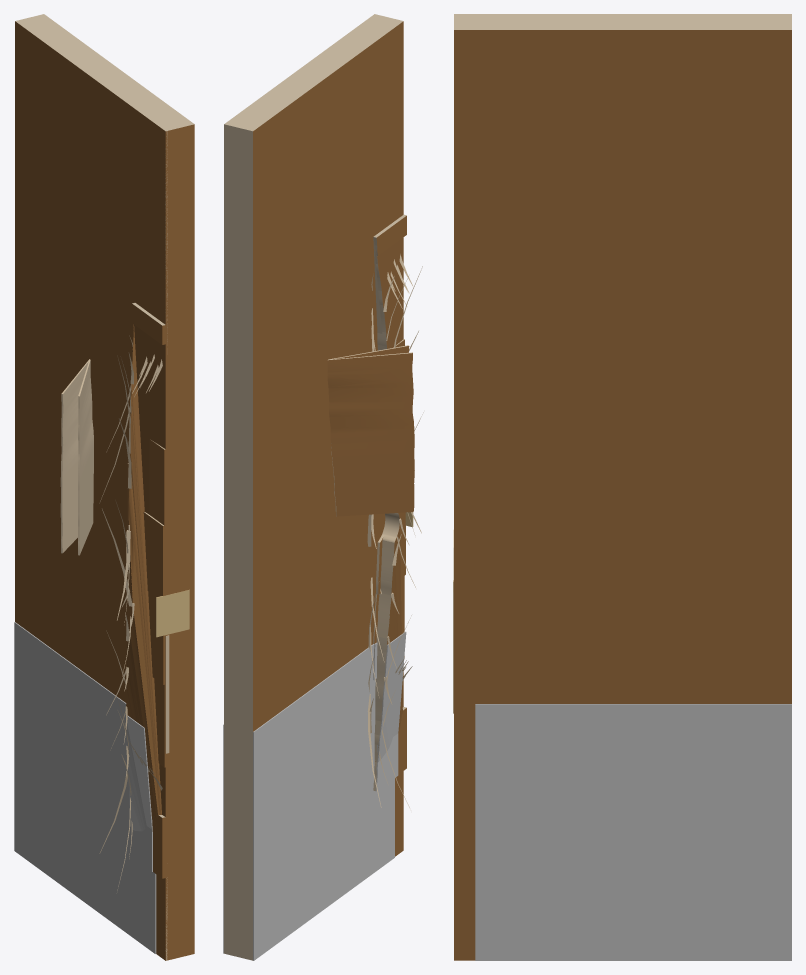
The model's file is Kit_DoorLeafBreak_Veneer_DA_M0.fbx.
The picture shows the model from 3 angles, left to right: view 1: azimuth 30°, elevation 25°; view 2: azimuth 150°, elevation 25°; view 3: azimuth 270°, elevation 25°; orthographic projection. The views are drawn at different scales.
Parts seen in each view (by area): view 1: cas_D1_L0, cas_D1_L2, cas_M_L0, cas_D2_L0, armor_D1_L0, armor_D2_L0, armor_D2_L1, cas_TORN_L0, cas_D2_L2, cas_TORN_L2, armor_M_L0, cas_D2_L1 (+4 smaller); view 2: cas_D1_L0, cas_D1_L2, cas_D2_L0, cas_D2_L2, armor_D1_L0, armor_D2_L0, cas_TORN_L2, cas_TORN_L1, cas_D2_L1, cas_M_L0, armor_M_L0, armor_TORN_L0 (+4 smaller); view 3: cas_D1_L0, cas_M_L0, cas_D1_L2, armor_D1_L0, cas_D2_L0, armor_D1_L1, armor_D2_L0, armor_M_L0, cas_TORN_L0, armor_D2_L1, cas_D2_L1, cas_D1_L1 (+3 smaller).
Boxes of the visible parts, x1,y1,x2,y2 form: cas_D1_L0: (15, 14, 194, 960); cas_D1_L2: (15, 26, 194, 959); cas_M_L0: (15, 27, 194, 956); cas_D2_L0: (15, 15, 194, 960); armor_D1_L0: (14, 622, 156, 953); armor_D2_L0: (14, 624, 155, 953); armor_D2_L1: (14, 623, 150, 855); cas_TORN_L0: (20, 34, 194, 958); cas_D2_L2: (15, 31, 194, 952); cas_TORN_L2: (15, 25, 194, 955); armor_M_L0: (14, 625, 156, 951); cas_D2_L1: (48, 310, 160, 890); cas_D1_L0: (224, 14, 405, 960); cas_D1_L2: (253, 24, 403, 853); cas_D2_L0: (224, 14, 423, 957); cas_D2_L2: (253, 135, 382, 764); armor_D1_L0: (223, 642, 394, 960); armor_D2_L0: (254, 631, 406, 958); cas_TORN_L2: (253, 26, 403, 852); cas_TORN_L1: (327, 235, 414, 790); cas_D2_L1: (287, 238, 421, 807); cas_M_L0: (253, 24, 403, 853); armor_M_L0: (254, 644, 394, 958); armor_TORN_L0: (258, 720, 398, 956); cas_D1_L0: (453, 14, 791, 960); cas_M_L0: (453, 30, 791, 960); cas_D1_L2: (454, 30, 791, 960); armor_D1_L0: (475, 704, 791, 960); cas_D2_L0: (453, 14, 791, 960); armor_D1_L1: (524, 704, 791, 958); armor_D2_L0: (475, 704, 791, 960); armor_M_L0: (475, 704, 791, 960); cas_TORN_L0: (454, 30, 791, 959); armor_D2_L1: (524, 704, 791, 959); cas_D2_L1: (454, 247, 694, 863); cas_D1_L1: (515, 392, 666, 703).
Size of the model in its own units: 0.1331 by 1.2 by 0.3958.
